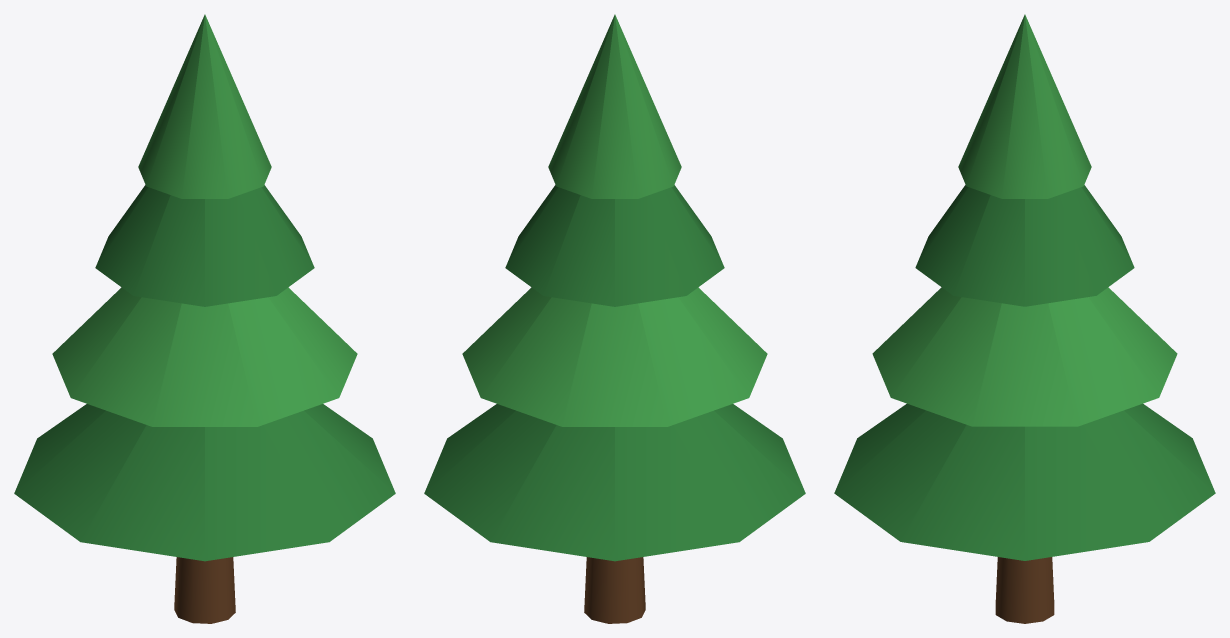
File: PineTree.glb
The picture shows the model from 3 angles, left to right: view 1: azimuth 30°, elevation 25°; view 2: azimuth 150°, elevation 25°; view 3: azimuth 270°, elevation 25°; orthographic projection.
Parts seen in each view (by area): view 1: Layer0, Layer1, Layer2, Layer3, Trunk; view 2: Layer0, Layer1, Layer2, Layer3, Trunk; view 3: Layer0, Layer1, Layer2, Layer3, Trunk.
Boxes of the visible parts, bbox=[...] form: Layer0: bbox=[14, 404, 395, 561]; Layer1: bbox=[52, 287, 357, 426]; Layer2: bbox=[95, 185, 314, 306]; Layer3: bbox=[138, 14, 271, 198]; Trunk: bbox=[174, 557, 235, 623]; Layer0: bbox=[424, 404, 805, 561]; Layer1: bbox=[462, 287, 767, 426]; Layer2: bbox=[505, 185, 724, 306]; Layer3: bbox=[548, 14, 681, 198]; Trunk: bbox=[584, 557, 645, 623]; Layer0: bbox=[834, 403, 1215, 560]; Layer1: bbox=[872, 287, 1177, 426]; Layer2: bbox=[915, 185, 1134, 306]; Layer3: bbox=[958, 14, 1091, 198]; Trunk: bbox=[995, 557, 1054, 623].
Bounding box in the file's own units: 3.88 × 6.8 × 3.94.
